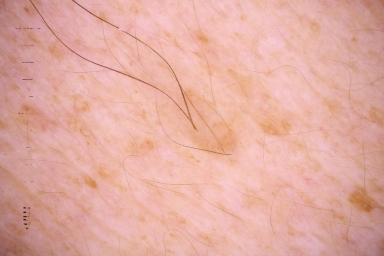melanoma: (185, 22, 288, 138), (166, 88, 237, 163), (18, 104, 55, 136), (345, 185, 384, 214), (124, 132, 158, 159), (74, 170, 103, 193)
